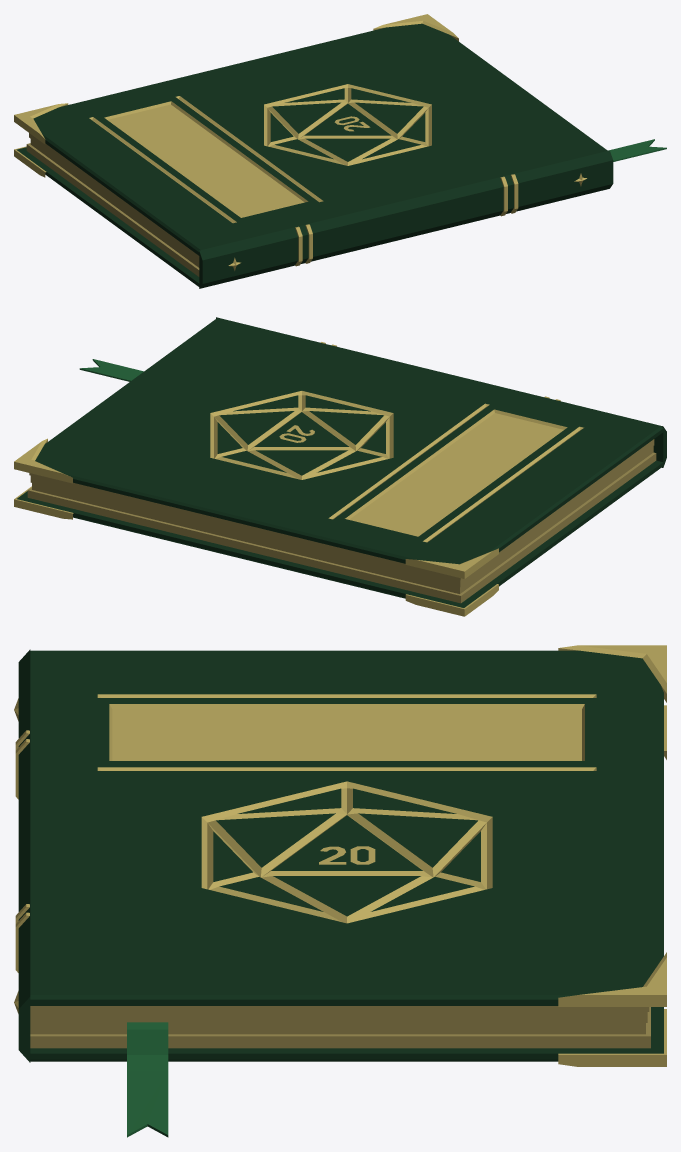
Rendered from core-rulebook-4aedc7.glb.
The picture shows the model from 3 angles, top to bottom: view 1: azimuth 30°, elevation 25°; view 2: azimuth 150°, elevation 25°; view 3: azimuth 270°, elevation 25°; orthographic projection. The views are drawn at different scales.
Visible parts, largest first — view 1: cover-board, book; view 2: cover-board, book; view 3: cover-board, book.
Boxes of the visible parts, box(x1,y1,x2,y2) form: cover-board: box(14, 14, 607, 255); book: box(14, 133, 666, 288); cover-board: box(14, 317, 663, 578); book: box(14, 317, 666, 616); cover-board: box(30, 645, 666, 1006); book: box(14, 649, 666, 1137).
Size of the model in its own units: 0.339 by 0.027 by 0.2225.
